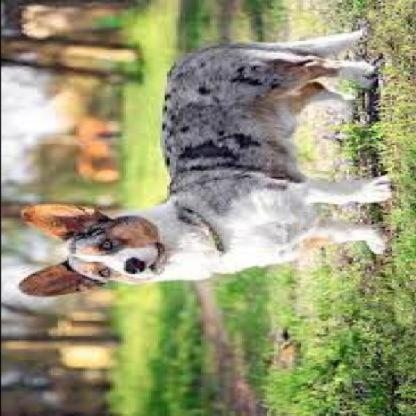dog: (19, 27, 392, 297)
